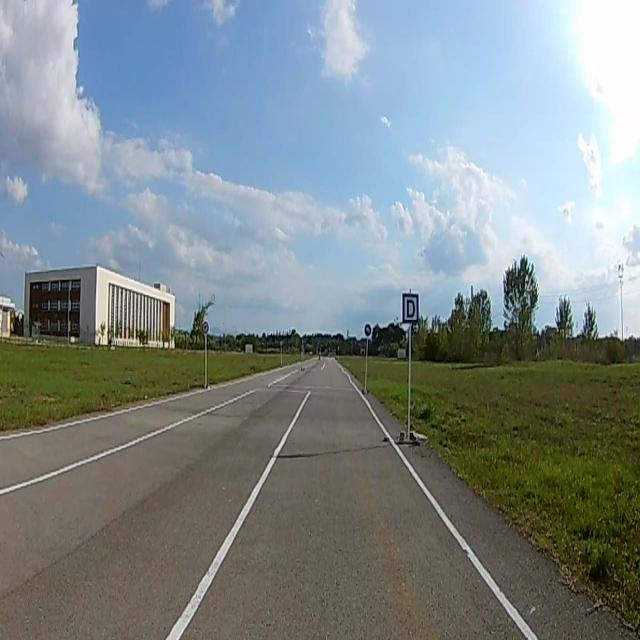durak: (402, 295, 418, 321)
